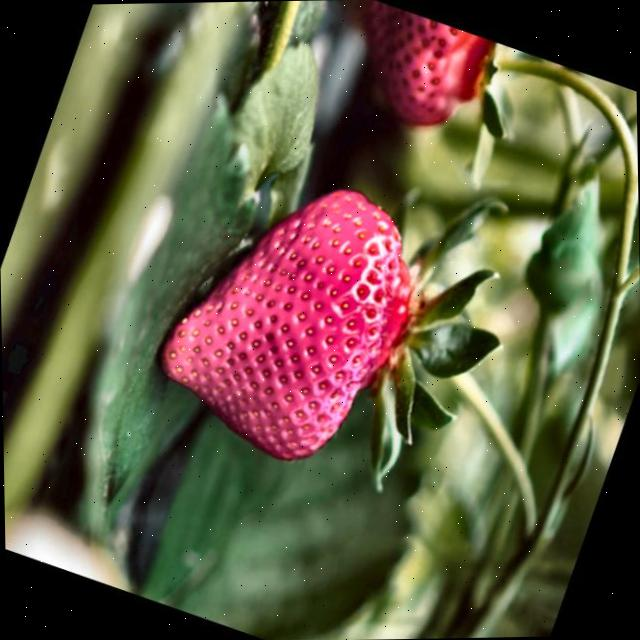strawberry: (160, 190, 412, 459), (365, 0, 491, 125)
